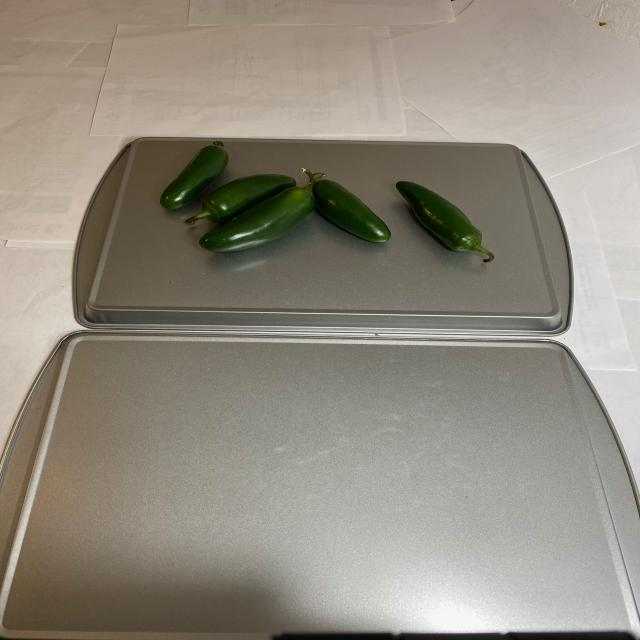chilli: (153, 138, 496, 278)
